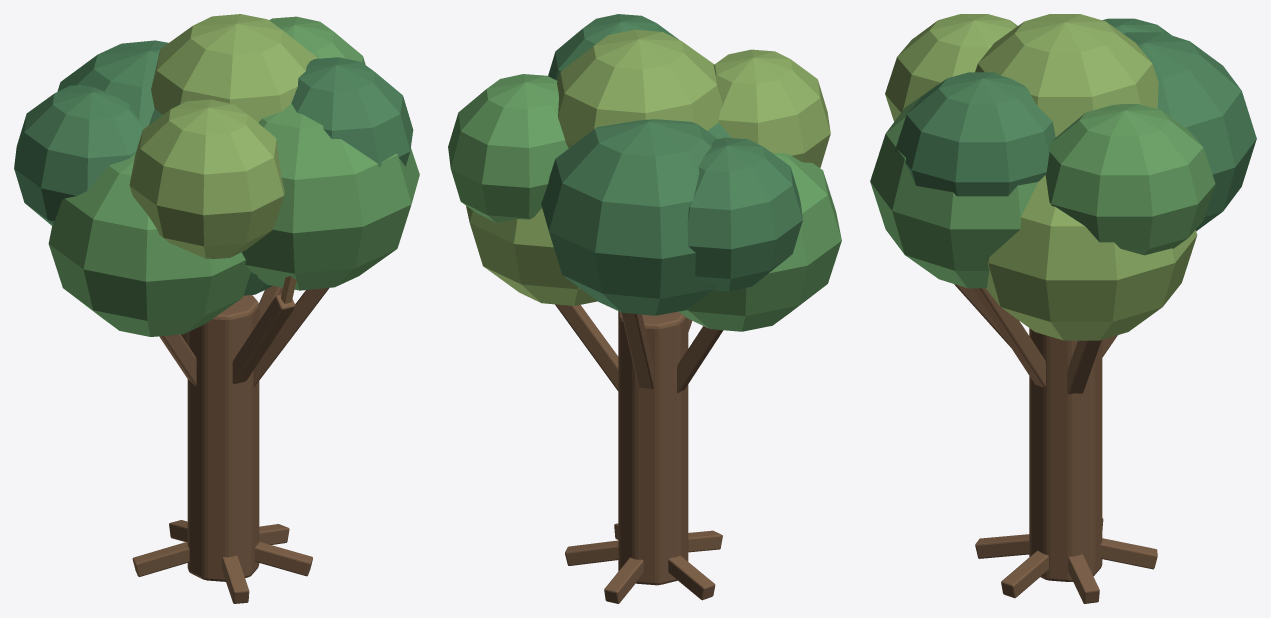
File: young_tree.glb
3 renders of one model, left to right at view 1: azimuth 30°, elevation 25°; view 2: azimuth 150°, elevation 25°; view 3: azimuth 270°, elevation 25°, orthographic. The views are drawn at different scales.
Parts seen in each view (by area): view 1: YoungOak_Geometry; view 2: YoungOak_Geometry; view 3: YoungOak_Geometry.
Part boxes in pixels (x1,y1,x2,y2): YoungOak_Geometry: [14, 14, 419, 603]; YoungOak_Geometry: [448, 14, 841, 603]; YoungOak_Geometry: [870, 14, 1256, 603].
Size of the model in its own units: 2.39 by 3.69 by 2.34.
